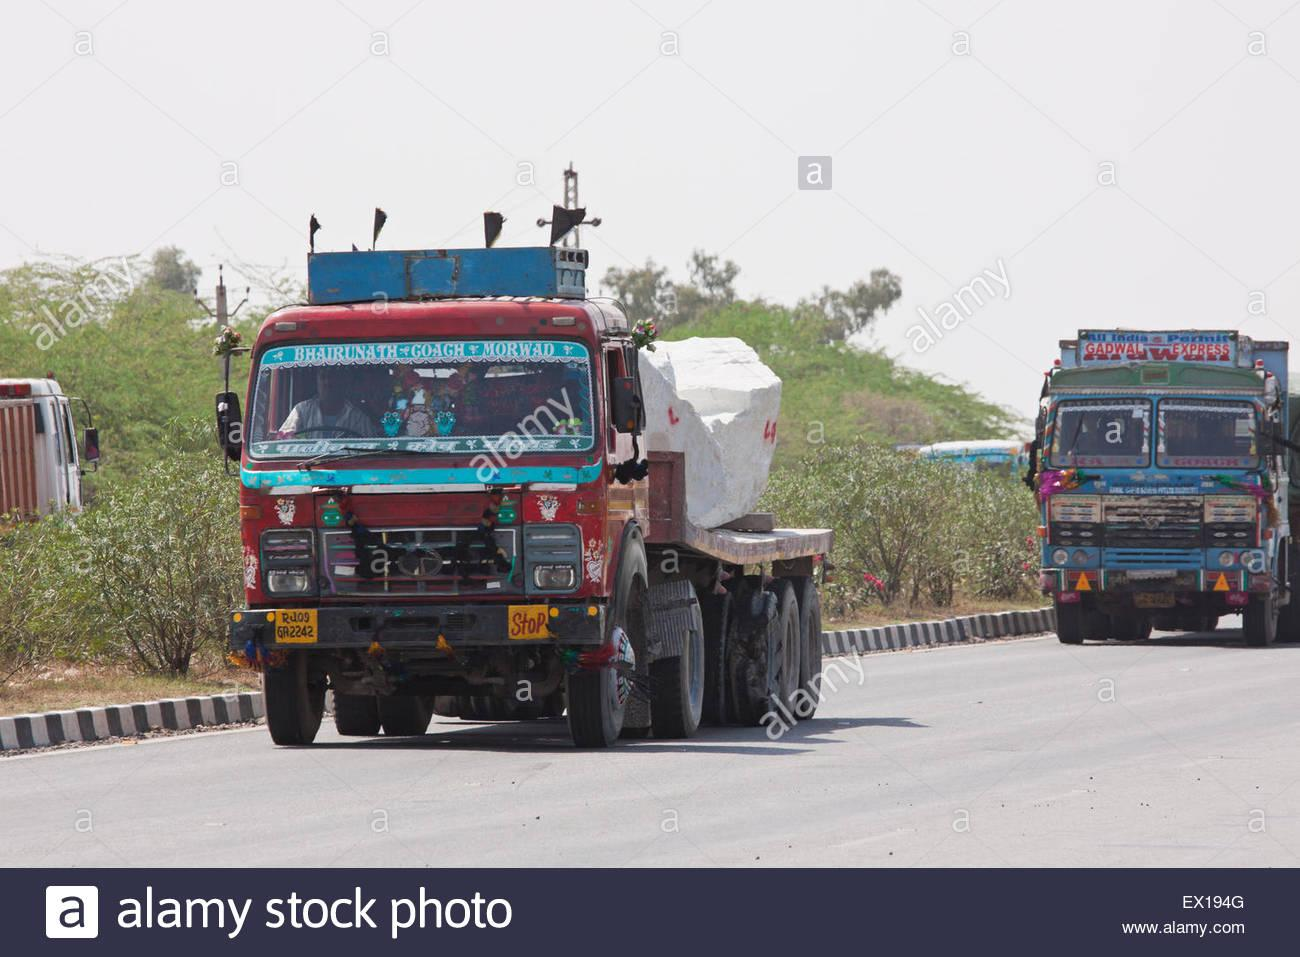Trucks: (214, 216, 830, 754), (1020, 314, 1298, 657)
